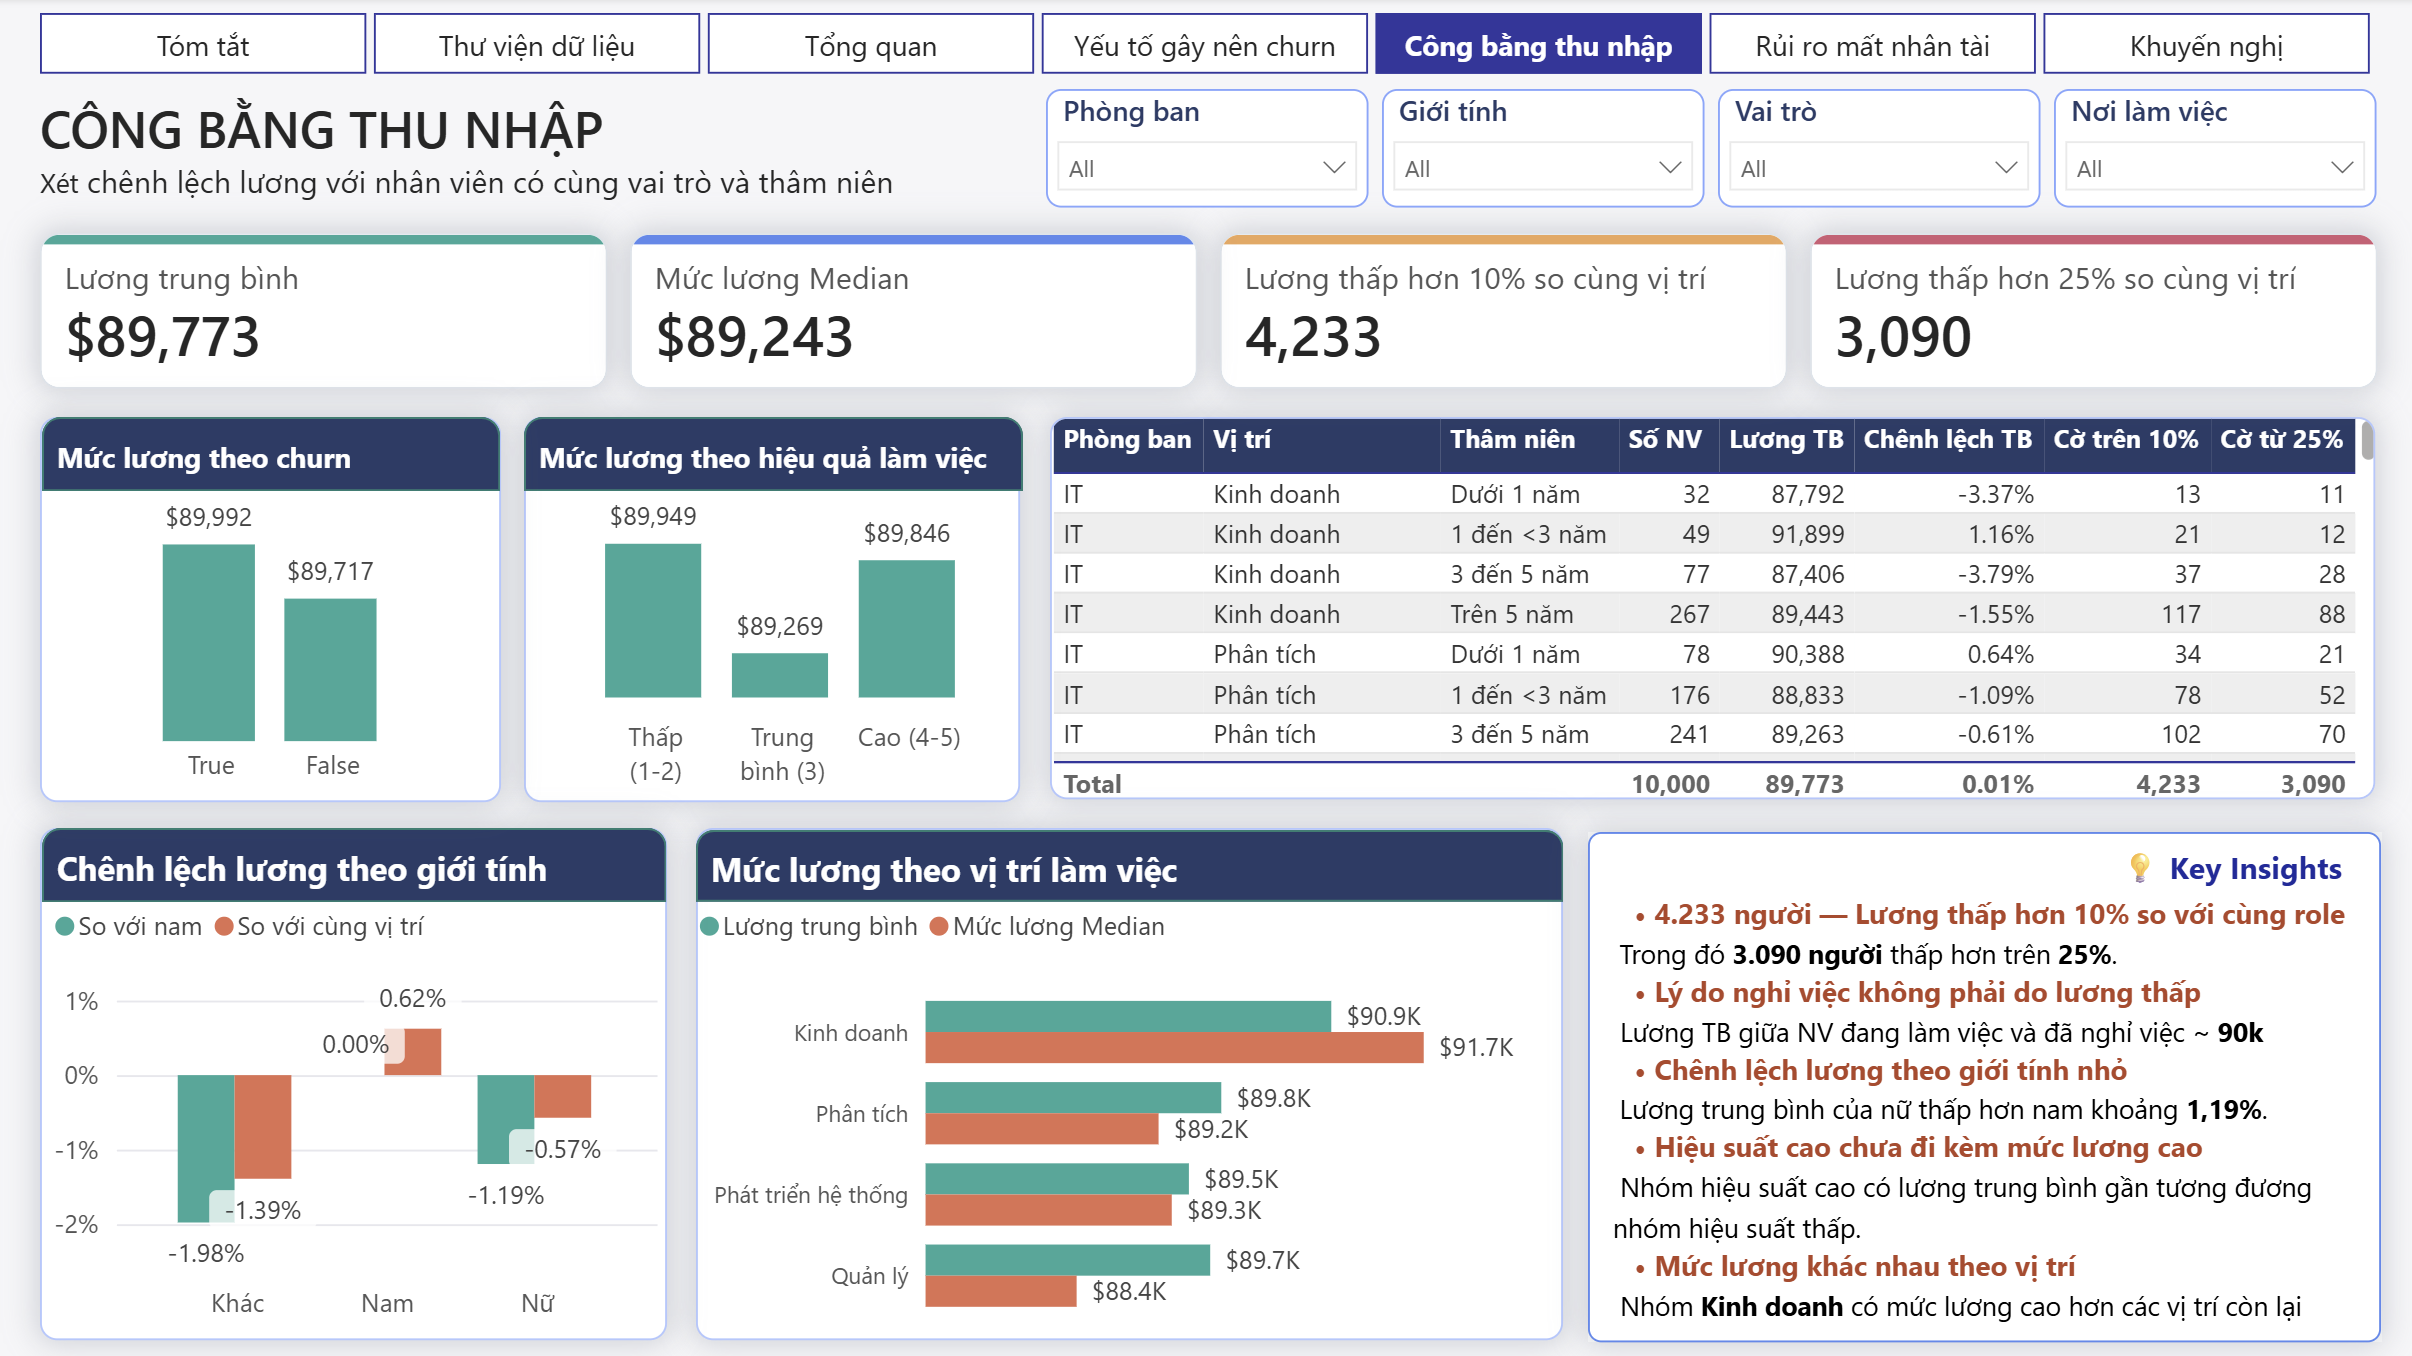

What the dashboard file says about the page in this screenshot:
{"tool":"powerbi","page":{"name":"Công bằng thu nhập","canvas":[1280,720],"ordinal":4},"visuals":[{"type":"tableEx","title":"TỔNG HỢP CỜ RÀ SOÁT LƯƠNG THEO NHÓM","fields":{"Values":["dim_department.department","dim_job_role.job_role","mart_employee_analytics.tenure_band","All Measures.Total Employees","All Measures.Average Salary","All Measures.Average Role Peer Gap","All Measures.Underpaid 10% Count","All Measures.Underpaid 25% Count"]},"box":[557,221.2,698.7,201],"z":0},{"type":"textbox","box":[840.3,439.1,418.1,269],"z":0,"group":"g1"},{"type":"cardVisual","fields":{"Data":["All Measures.Average Salary"]},"box":[24,124,299,82],"z":1000},{"type":"textbox","box":[24,48,598,72],"z":2000},{"type":"clusteredBarChart","title":"Mức lương theo vị trí","fields":{"Category":["dim_job_role.job_role"],"Y":["All Measures.Average Salary","All Measures.Median Salary"]},"box":[369.6,437,457.2,269.8],"z":3000},{"type":"cardVisual","fields":{"Data":["All Measures.Underpaid 10% Count"]},"box":[646,124,299,82],"z":4000},{"type":"cardVisual","fields":{"Data":["All Measures.Underpaid 25% Count"]},"box":[957,124,299,82],"z":5000},{"type":"clusteredColumnChart","title":"Mức lương theo kết quả làm việc","fields":{"Category":["mart_employee_analytics.performance_group"],"Y":["All Measures.Average Salary"]},"box":[279.2,221.2,261.7,202.3],"z":6000},{"type":"cardVisual","fields":{"Data":["All Measures.Median Salary"]},"box":[335,124,299,82],"z":7000},{"type":"clusteredColumnChart","title":"Chênh lệch lương theo giới tính","fields":{"Category":["dim_gender.gender"],"Y":["All Measures.Raw Pay Gap vs Male","All Measures.Average Role Peer Gap"]},"box":[24.3,437,330.5,269.8],"z":8000},{"type":"pageNavigator","box":[24,8,1232,32],"z":9000},{"type":"shape","box":[369.6,438.4,457.2,37.8],"z":10000},{"type":"shape","box":[279.2,221.2,263,39.1],"z":11000},{"type":"shape","box":[25.6,437,329.1,39.1],"z":12000},{"type":"group","id":"g1","title":"Group 1","box":[840.3,439.1,418.1,269],"z":13000},{"type":"slicer","fields":{"Values":["dim_work_location.work_location"]},"box":[1085.3,48,170.1,62.3],"z":14000},{"type":"textbox","box":[1114.1,439.7,144.3,36.4],"z":14000,"group":"g1"},{"type":"slicer","fields":{"Values":["dim_job_role.job_role"]},"box":[908.3,48,170,62.3],"z":15000},{"type":"slicer","fields":{"Values":["dim_gender.gender"]},"box":[731.3,48,170,62.3],"z":16000},{"type":"slicer","fields":{"Values":["dim_department.department"]},"box":[554.3,48,170.1,62.3],"z":17000},{"type":"clusteredColumnChart","fields":{"Category":["mart_employee_analytics.churn"],"Y":["Avg(mart_employee_analytics.salary)"]},"box":[24.3,221.2,242.8,202.3],"z":18000},{"type":"shape","box":[25.6,221.2,241.4,39.1],"z":19000}]}

Visuals, with their boxes in screenshot pixels (x1, y1, x2, y2), scaled from the page's 1280x720 canvas onto the 2412x1356 screenshot:
"TỔNG HỢP CỜ RÀ SOÁT LƯƠNG THEO NHÓM" tableEx: 1050, 417, 2366, 795
textbox: 1583, 827, 2371, 1334
cardVisual - All Measures.Average Salary: 45, 234, 609, 388
textbox: 45, 90, 1172, 226
"Mức lương theo vị trí" clusteredBarChart: 696, 823, 1558, 1331
cardVisual - All Measures.Underpaid 10% Count: 1217, 234, 1781, 388
cardVisual - All Measures.Underpaid 25% Count: 1803, 234, 2367, 388
"Mức lương theo kết quả làm việc" clusteredColumnChart: 526, 417, 1019, 798
cardVisual - All Measures.Median Salary: 631, 234, 1195, 388
"Chênh lệch lương theo giới tính" clusteredColumnChart: 46, 823, 669, 1331
pageNavigator: 45, 15, 2367, 75
shape: 696, 826, 1558, 897
shape: 526, 417, 1022, 490
shape: 48, 823, 668, 897
"Group 1" group: 1583, 827, 2371, 1334
slicer - dim_work_location.work_location: 2045, 90, 2366, 208
textbox: 2099, 828, 2371, 897
slicer - dim_job_role.job_role: 1712, 90, 2032, 208
slicer - dim_gender.gender: 1378, 90, 1698, 208
slicer - dim_department.department: 1045, 90, 1365, 208
clusteredColumnChart - mart_employee_analytics.churn x Avg(mart_employee_analytics.salary): 46, 417, 503, 798
shape: 48, 417, 503, 490
